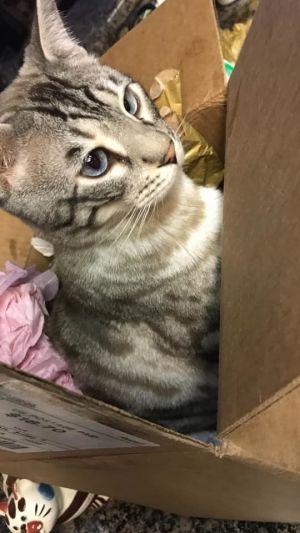bengal: (1, 1, 191, 241)
